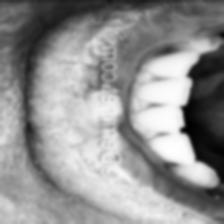Potentially Malignant Skin Tumors: (82, 148, 96, 166), (90, 88, 98, 108), (116, 100, 123, 112)
